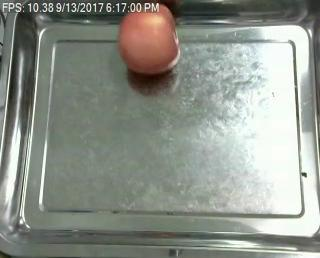apple: (118, 11, 180, 75)
